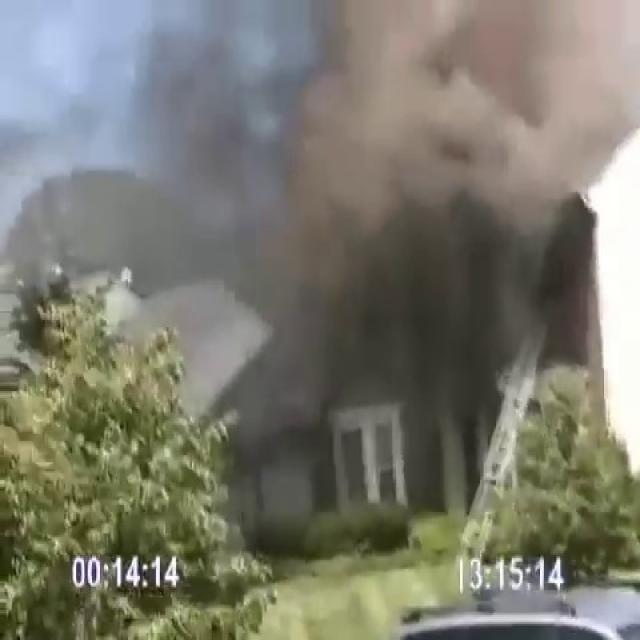Smoke: (93, 1, 640, 495)
